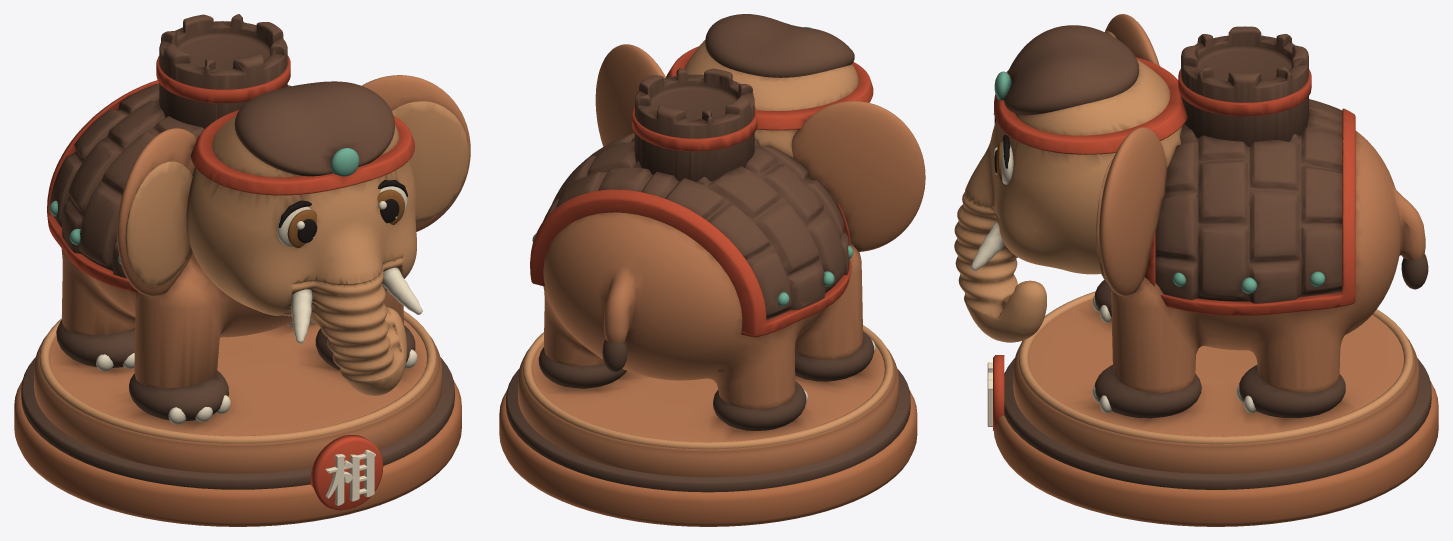
The model's file is red-elephant-terracotta-cartoon-v3.glb.
The picture shows the model from 3 angles, left to right: view 1: azimuth 30°, elevation 25°; view 2: azimuth 150°, elevation 25°; view 3: azimuth 270°, elevation 25°; orthographic projection. The views are drawn at different scales.
Visible parts, largest first — view 1: Red Elephant Qin Terracotta Cartoon V3 - Joined Mesh; view 2: Red Elephant Qin Terracotta Cartoon V3 - Joined Mesh; view 3: Red Elephant Qin Terracotta Cartoon V3 - Joined Mesh.
Boxes of the visible parts, bbox=[...] form: Red Elephant Qin Terracotta Cartoon V3 - Joined Mesh: bbox=[14, 14, 470, 526]; Red Elephant Qin Terracotta Cartoon V3 - Joined Mesh: bbox=[499, 14, 925, 526]; Red Elephant Qin Terracotta Cartoon V3 - Joined Mesh: bbox=[954, 14, 1438, 526].
Bounding box in the file's own units: 2.16 × 2.09 × 2.35.
